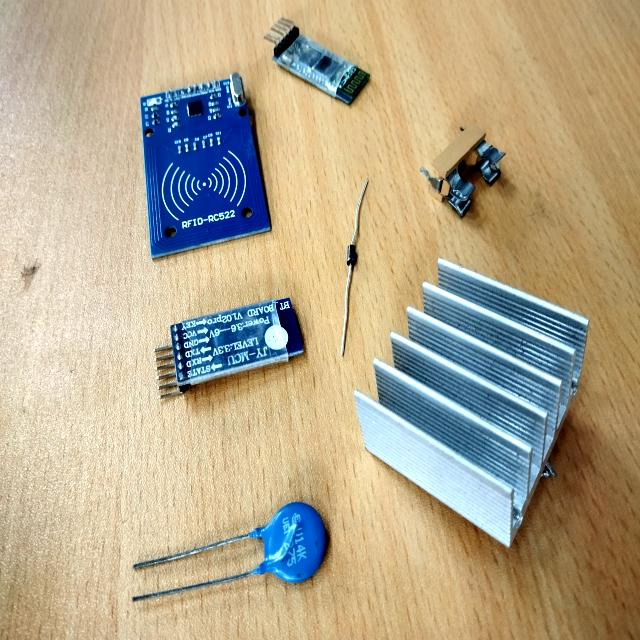capacitor: (262, 502, 330, 582)
